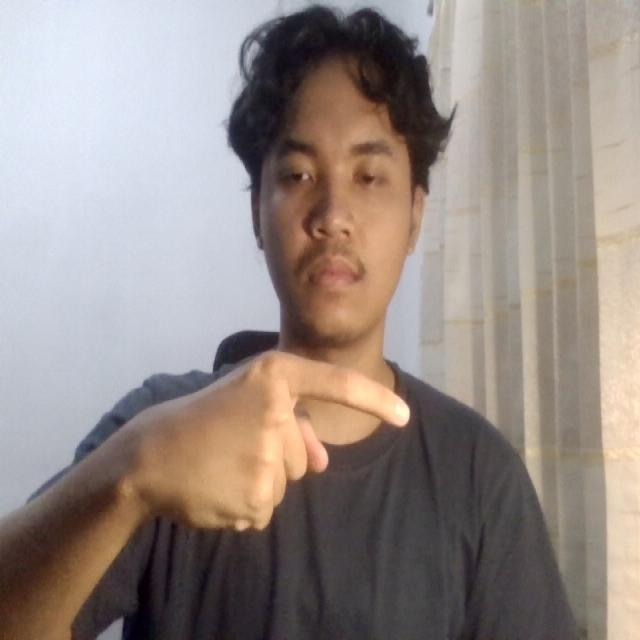N: (147, 322, 437, 558)
